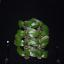leaf: (26, 18, 40, 28), (14, 48, 26, 58), (14, 28, 26, 37), (14, 38, 26, 46), (28, 37, 40, 45), (27, 29, 40, 36), (16, 20, 26, 28), (40, 36, 50, 44), (16, 28, 26, 35), (26, 48, 34, 55), (41, 50, 48, 58), (38, 48, 44, 56), (40, 21, 45, 28)
